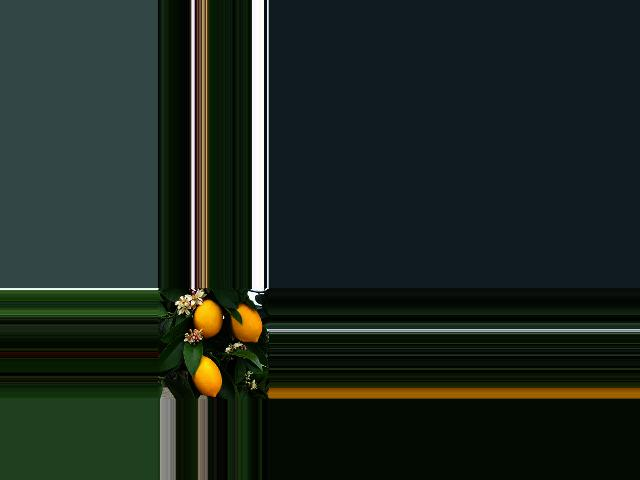lemon: (185, 350, 224, 395)
